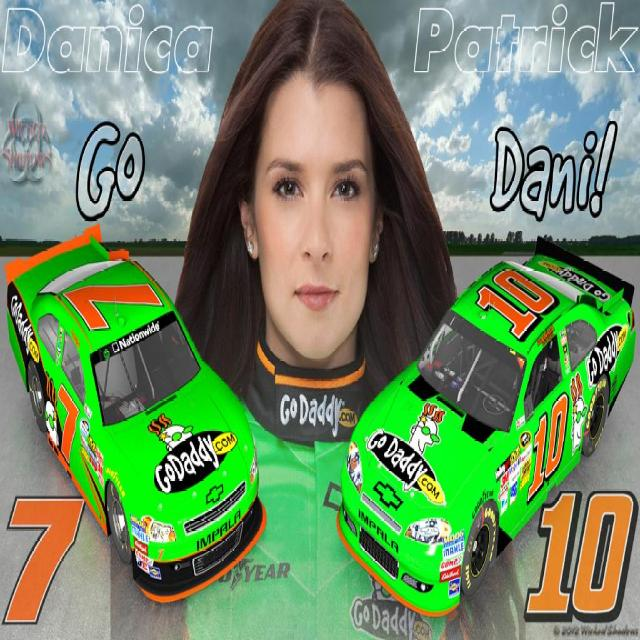Face: (249, 51, 387, 378)
